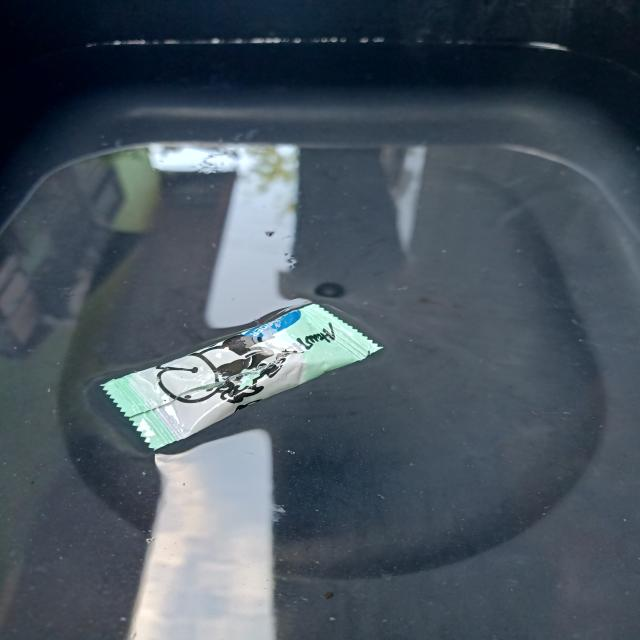Plastic Wrapper: (101, 304, 381, 450)
